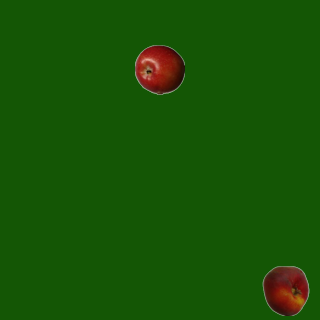Apple Braeburn: (134, 44, 184, 94)
Nectarine Flat: (260, 265, 310, 315)
